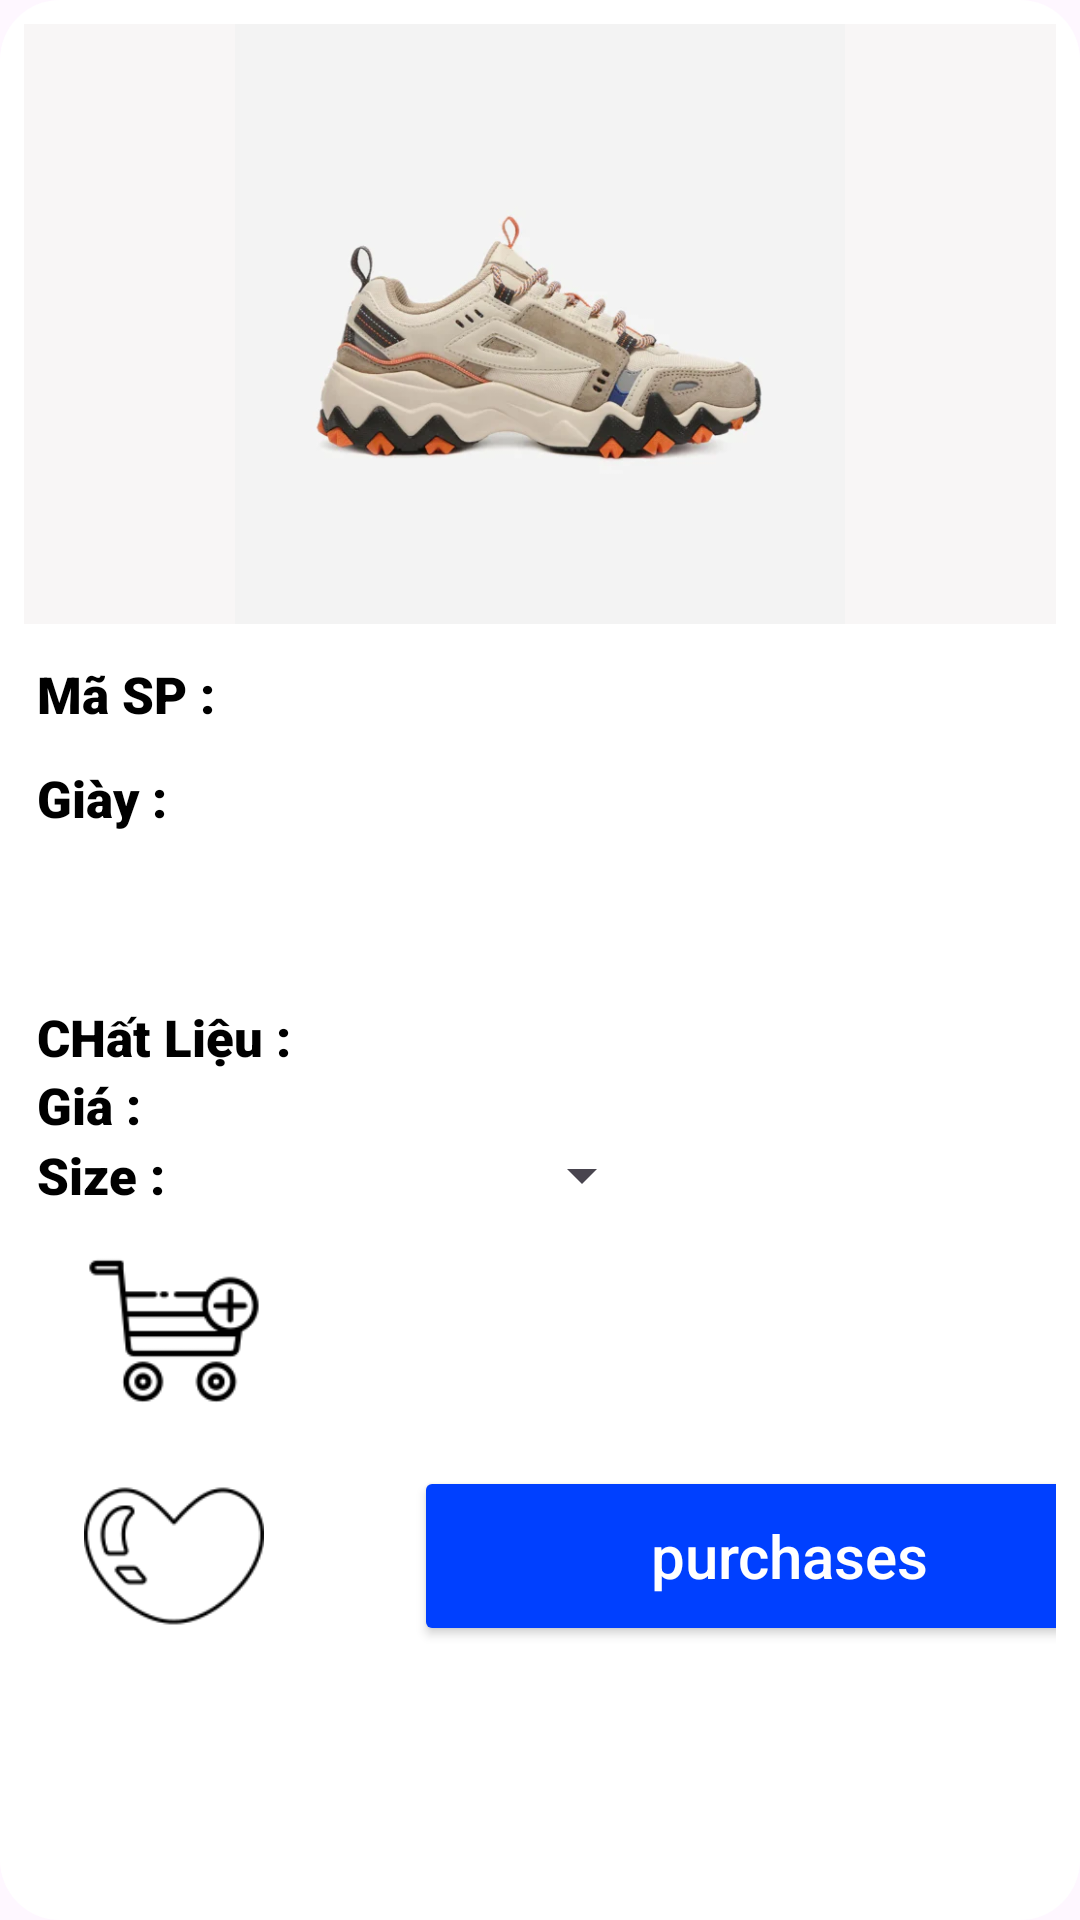

Screen size 1080 x 1920. Icon name, then its center in pixels as point (x, y):
add love: point (174, 1556)
